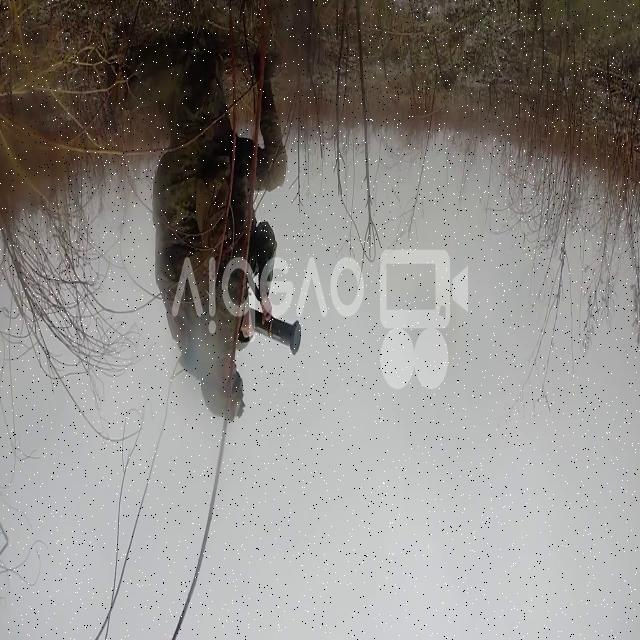bazooka: (249, 301, 306, 363)
